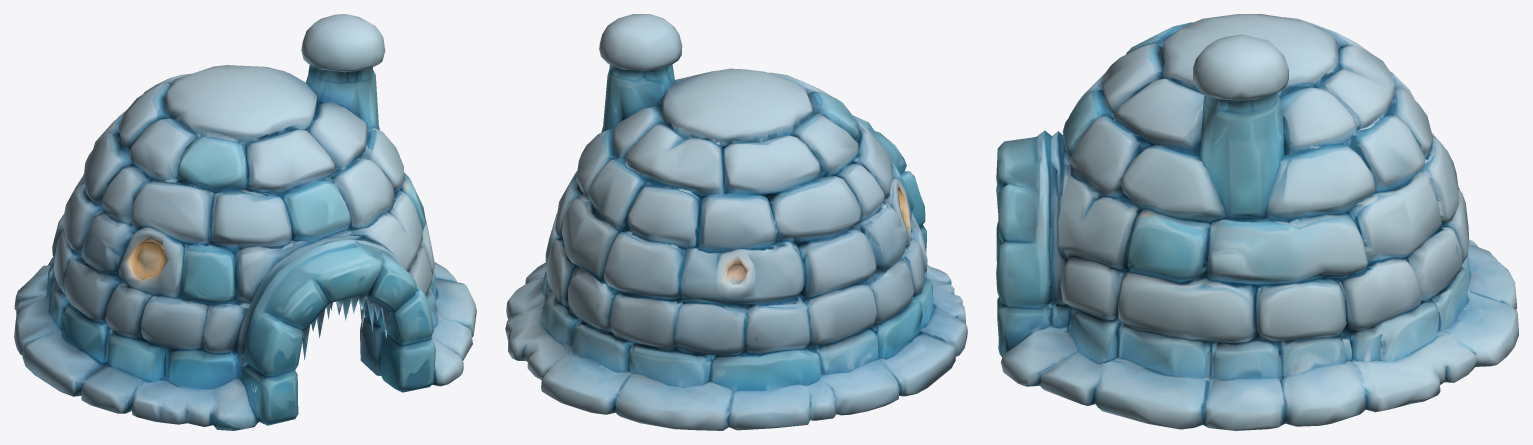
File: Igloo (3).fbx
3 renders of one model, left to right at view 1: azimuth 30°, elevation 25°; view 2: azimuth 150°, elevation 25°; view 3: azimuth 270°, elevation 25°, orthographic. The views are drawn at different scales.
Parts seen in each view (by area): view 1: mesh_node; view 2: mesh_node; view 3: mesh_node.
Part boxes in pixels (x1,y1,x2,y2): mesh_node: [14, 14, 476, 430]; mesh_node: [505, 14, 967, 430]; mesh_node: [996, 14, 1518, 430].
Bounding box in the file's own units: 1.97 × 1.36 × 1.94.
